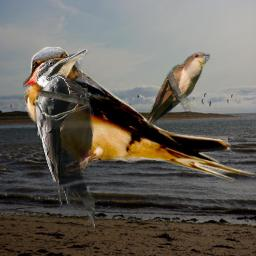Cuckoo: (144, 52, 210, 130)
Swallow: (22, 46, 256, 189)
Woodpecker: (23, 49, 95, 231)
